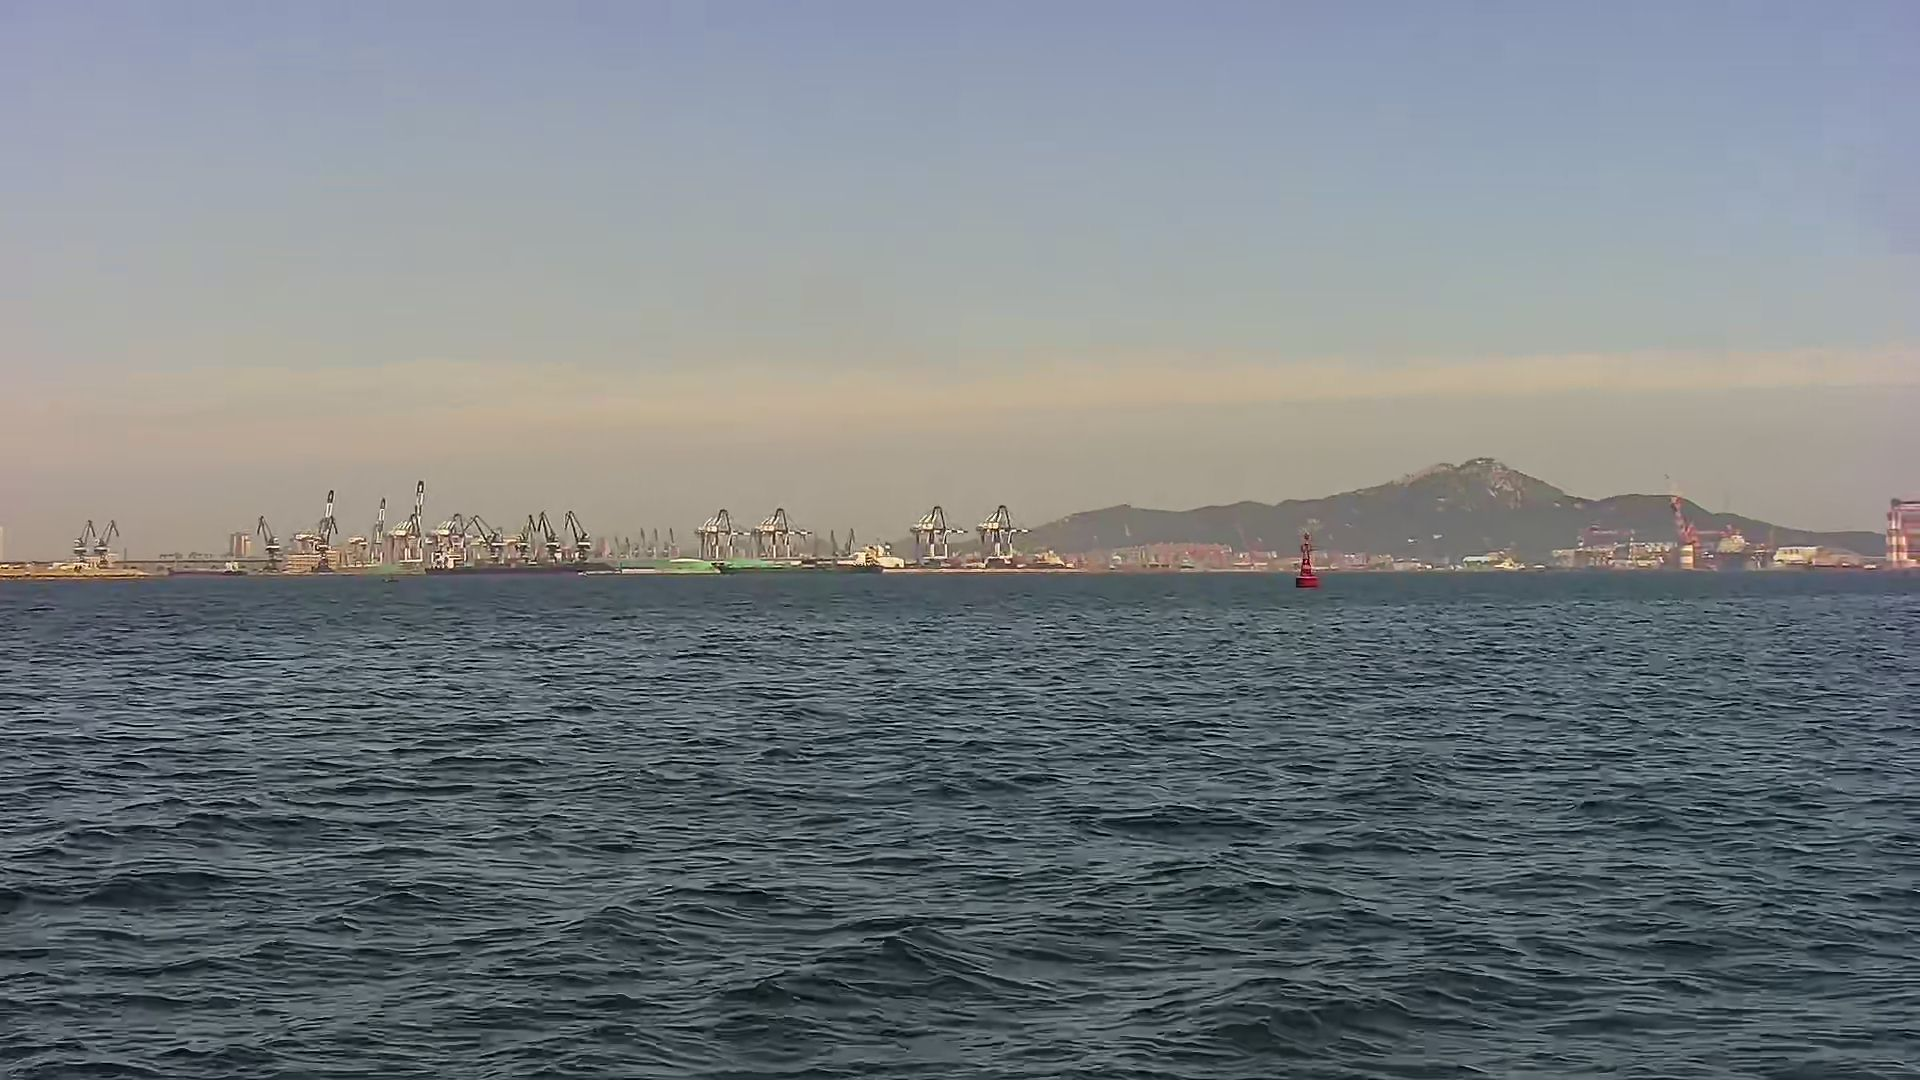buoy: (1296, 534, 1317, 589)
